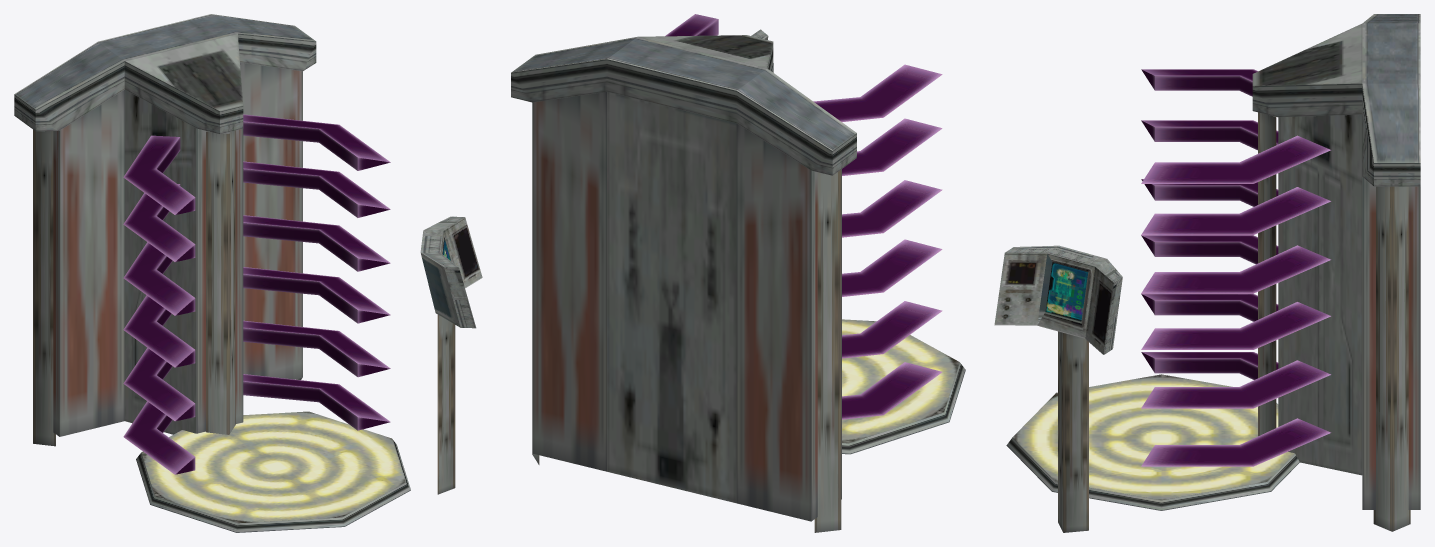
The model's file is ksk_all_image_design_l2.fbx.
3 renders of one model, left to right at view 1: azimuth 30°, elevation 25°; view 2: azimuth 150°, elevation 25°; view 3: azimuth 270°, elevation 25°, orthographic. The views are drawn at different scales.
Parts seen in each view (by area): view 1: mesh_node; view 2: mesh_node; view 3: mesh_node.
Part boxes in pixels (x1,y1,x2,y2): mesh_node: (14, 14, 482, 532); mesh_node: (511, 14, 965, 532); mesh_node: (994, 14, 1420, 532).
Bounding box in the file's own units: 2.1 × 2.32 × 2.2.
